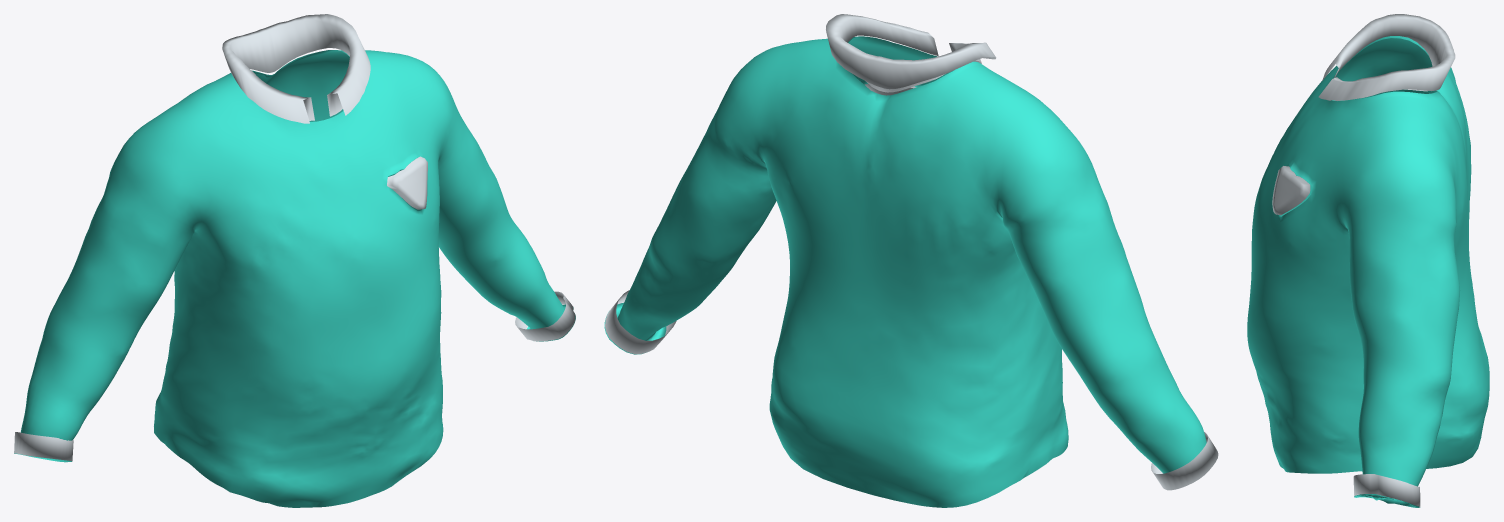
The model's file is Male-XX-Large-shirtWithAbbi.glb.
The picture shows the model from 3 angles, left to right: view 1: azimuth 30°, elevation 25°; view 2: azimuth 150°, elevation 25°; view 3: azimuth 270°, elevation 25°; orthographic projection. The views are drawn at different scales.
Parts seen in each view (by area): view 1: Group1.035; view 2: Group1.035; view 3: Group1.035.
Boxes of the visible parts, box(x1,y1,x2,y2) form: Group1.035: box(14, 14, 575, 507); Group1.035: box(604, 14, 1218, 507); Group1.035: box(1247, 14, 1489, 507).
Size of the model in its own units: 1.93 by 1.38 by 0.7419.
